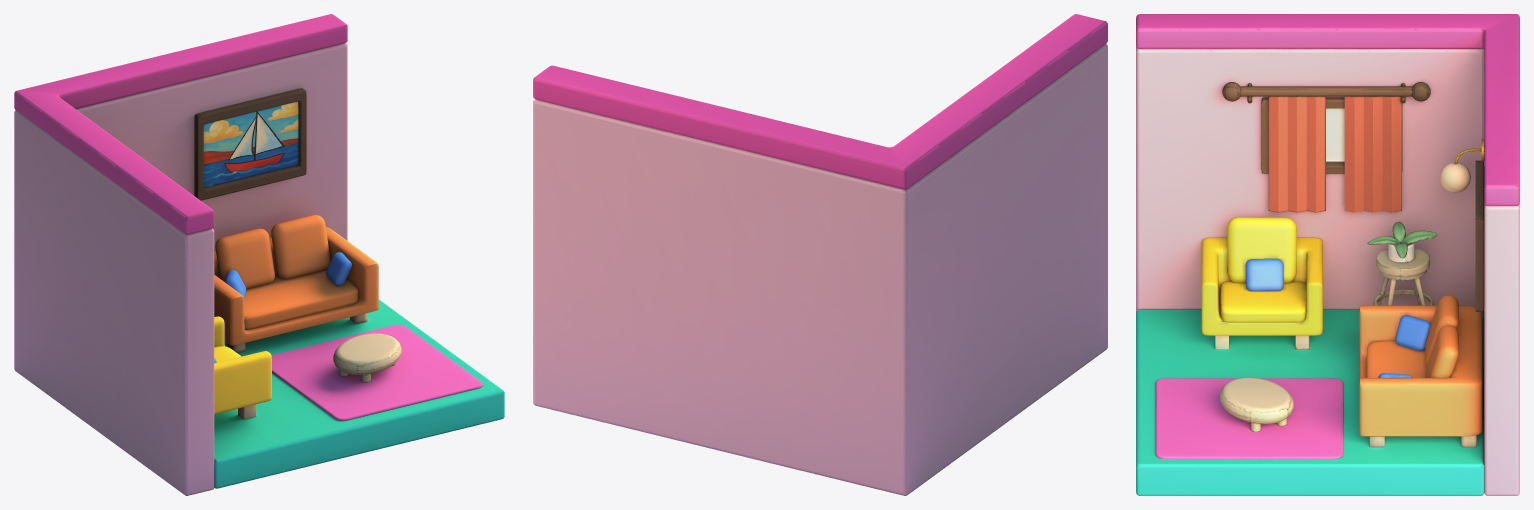
File: Living-room_baked.glb
3 views of the same model, side by side, from view 1: azimuth 30°, elevation 25°; view 2: azimuth 150°, elevation 25°; view 3: azimuth 270°, elevation 25° (orthographic). The views are drawn at different scales.
Parts seen in each view (by area): view 1: Wall.003, Floor.001, Wall.001, PillowOrange.001, Rug.001, Painting.002, Frame.001, PillowYellow.001, Table.004, PillowBlue.001; view 2: Wall.003, Wall.001; view 3: Wall.003, Floor.001, Wall.001, PillowOrange.001, Curtains.001, Rug.001, PillowYellow.001, Table.004, Window.003, PillowBlue.001, Window.004, Chair.001 (+4 smaller).
Part boxes in pixels (left/top/right/bottom): Wall.003: left=14, top=43, right=347, bottom=495; Floor.001: left=214, top=299, right=504, bottom=488; Wall.001: left=14, top=14, right=347, bottom=234; PillowOrange.001: left=214, top=215, right=378, bottom=345; Rug.001: left=271, top=324, right=482, bottom=420; Painting.002: left=203, top=101, right=298, bottom=187; Frame.001: left=194, top=88, right=306, bottom=200; PillowYellow.001: left=214, top=316, right=271, bottom=414; Table.004: left=333, top=333, right=401, bottom=382; PillowBlue.001: left=214, top=252, right=351, bottom=362; Wall.003: left=533, top=44, right=1107, bottom=495; Wall.001: left=533, top=14, right=1107, bottom=189; Wall.003: left=1136, top=45, right=1519, bottom=495; Floor.001: left=1136, top=309, right=1484, bottom=495; Wall.001: left=1136, top=14, right=1519, bottom=205; PillowOrange.001: left=1359, top=295, right=1482, bottom=436; Curtains.001: left=1268, top=96, right=1401, bottom=212; Rug.001: left=1155, top=378, right=1343, bottom=458; PillowYellow.001: left=1201, top=217, right=1322, bottom=335; Table.004: left=1219, top=377, right=1293, bottom=431; Window.003: left=1222, top=82, right=1430, bottom=103; PillowBlue.001: left=1245, top=258, right=1430, bottom=377; Window.004: left=1261, top=97, right=1402, bottom=173; Chair.001: left=1373, top=247, right=1434, bottom=305.
Size of what is drawn, in the model's own units: 0.559 by 0.4682 by 0.5234.
Materials: 21 (21 with a texture image).
